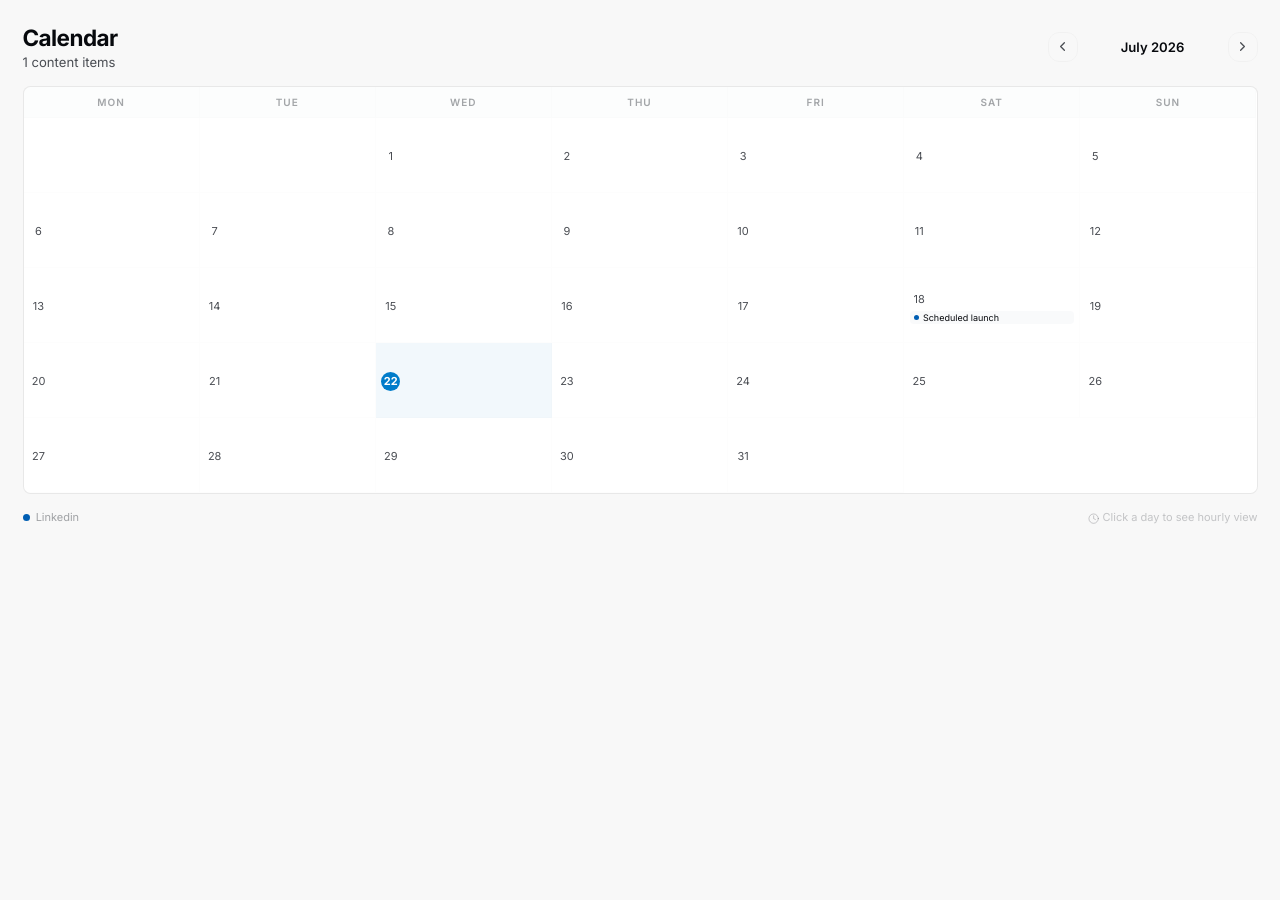
it: CalendarPage › navigates months and opens an accessible hourly day view
expect the text "July 2026" is shown: met, box [1121,38,1184,54]
Click the button with aria-label "July 18, 2026, 1 content item". click: (992, 306)
box: [904,268,1080,343]
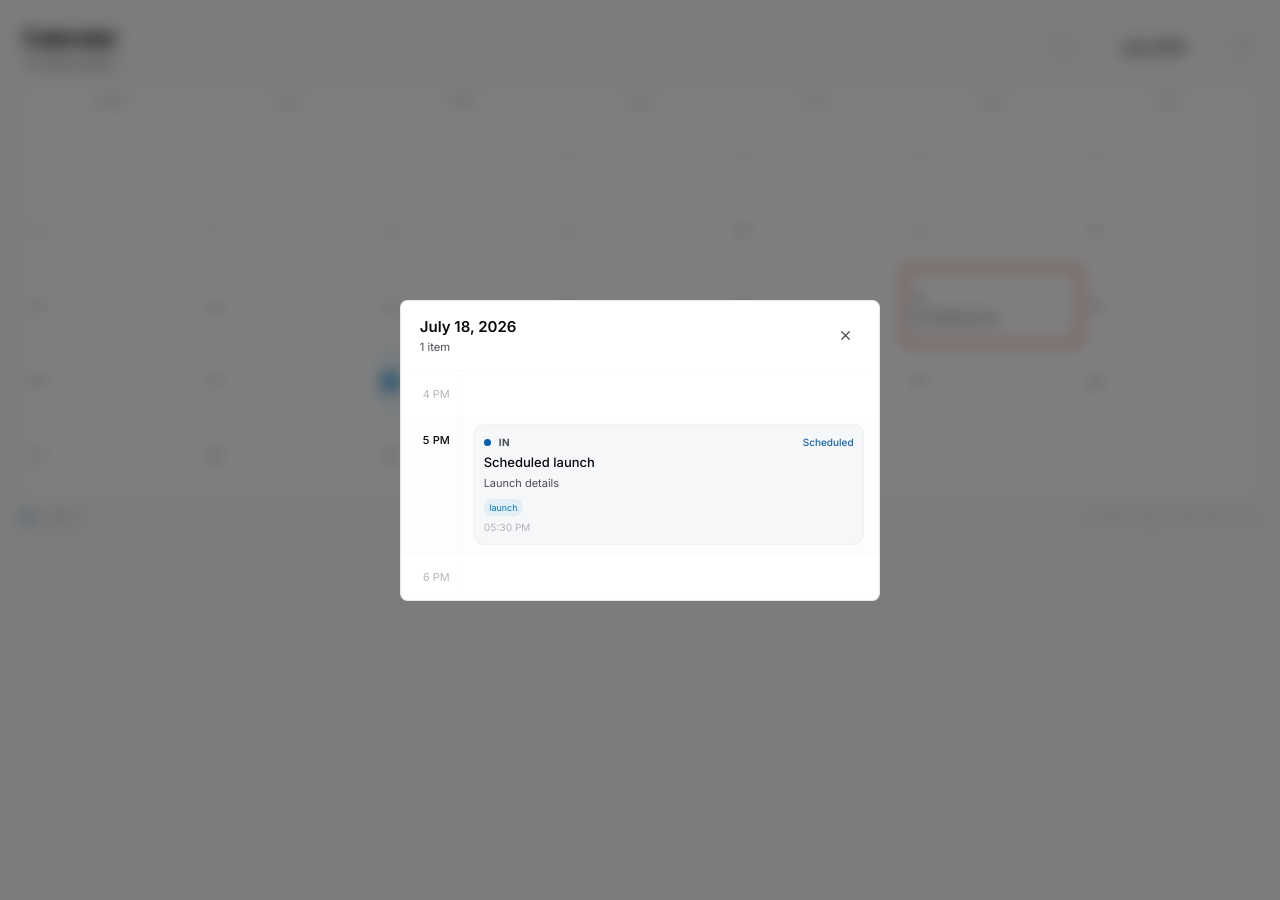
expect the dialog "July 18, 2026" is shown: met, box [400,300,880,600]
Click the button named "Close day details". click: (845, 335)
box: [830,320,860,350]
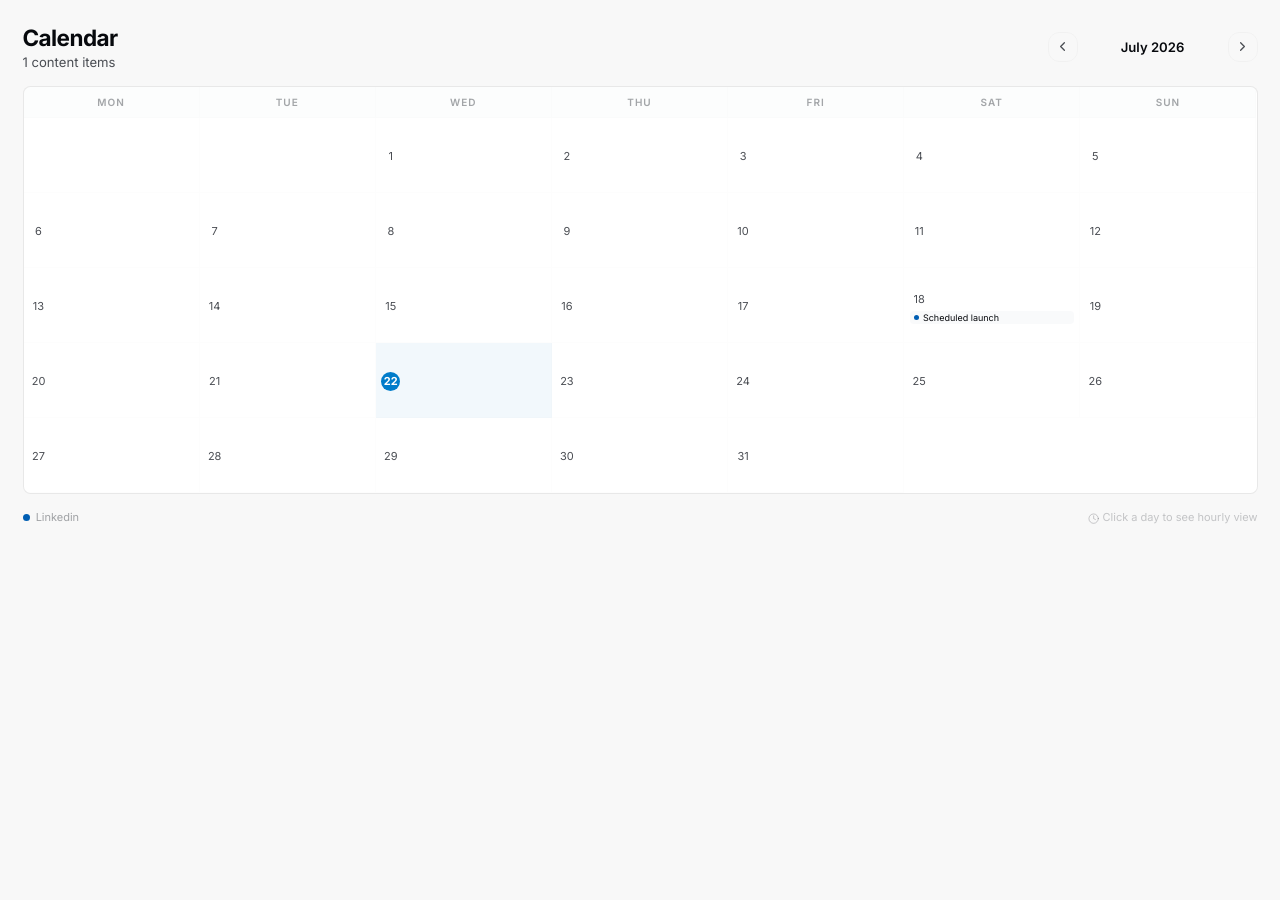
expect the dialog is gone: met
Click the button named "Next month". click: (1242, 47)
box: [1228,32,1258,62]
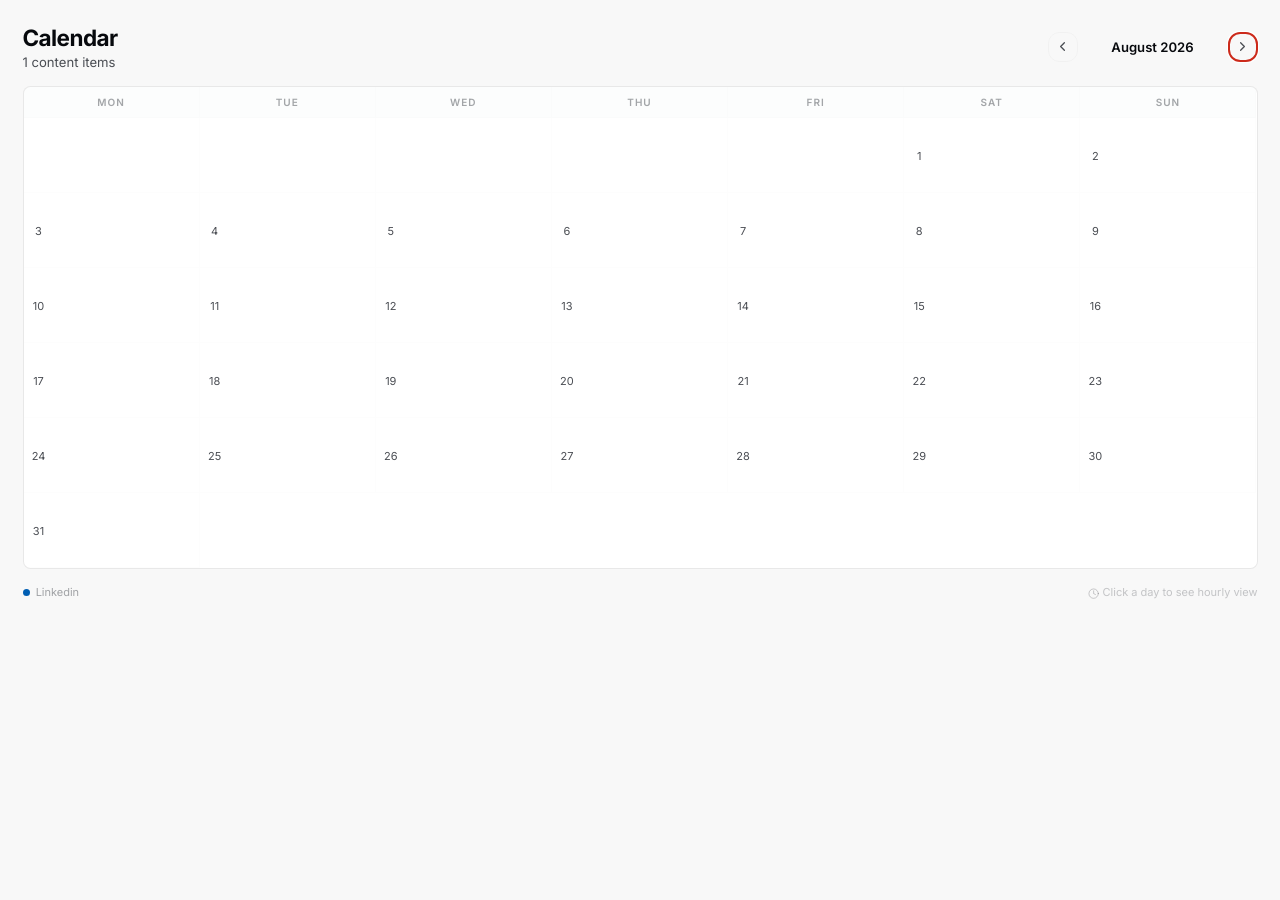
expect the text "August 2026" is shown: met, box [1111,38,1194,54]
Click the button named "Previous month". click: (1062, 47)
box: [1048,32,1078,62]
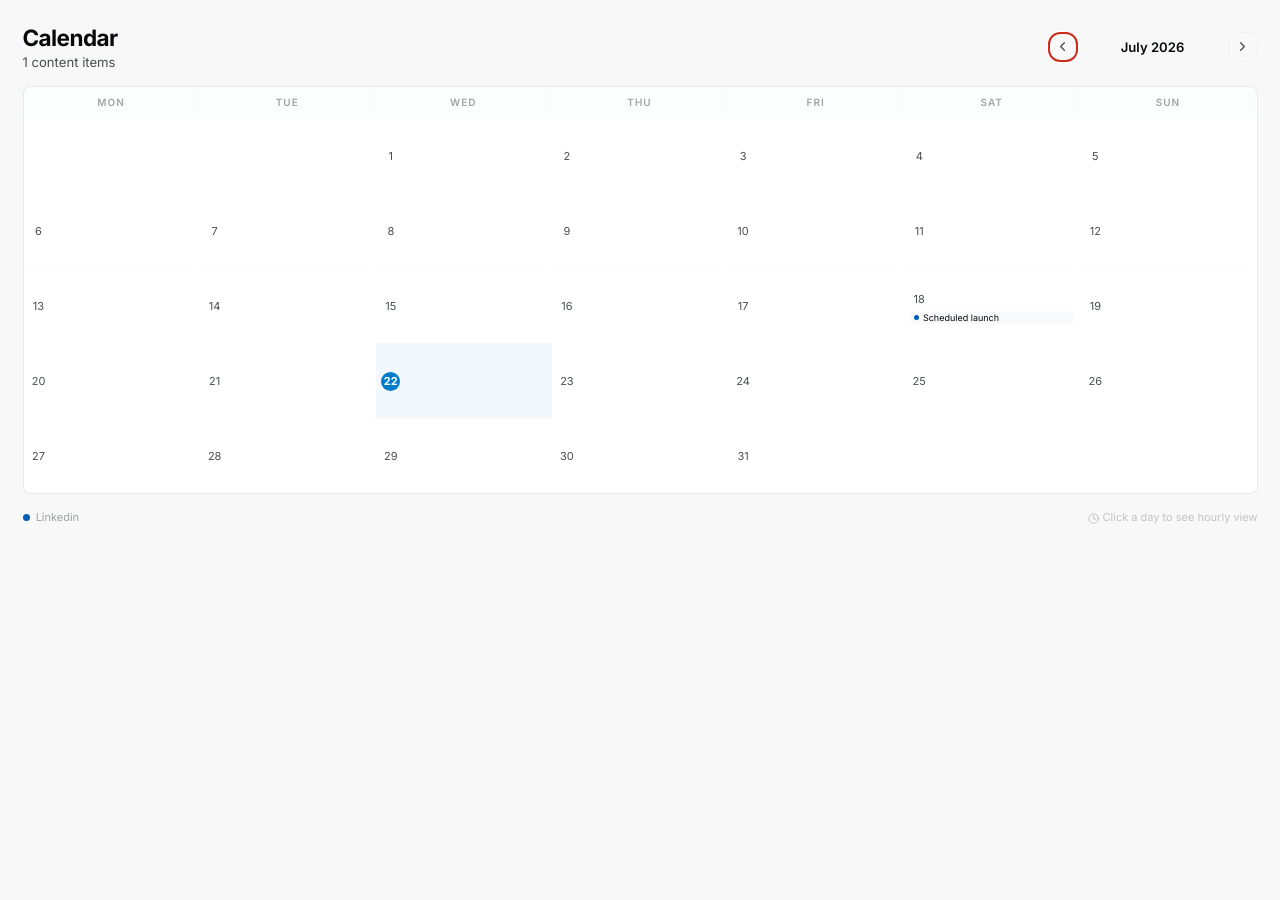
expect the button named "July 1, 2026, no content" is disabled: met, box [376,118,552,193]
expect the text "July 2026" is shown: met, box [1121,38,1184,54]
